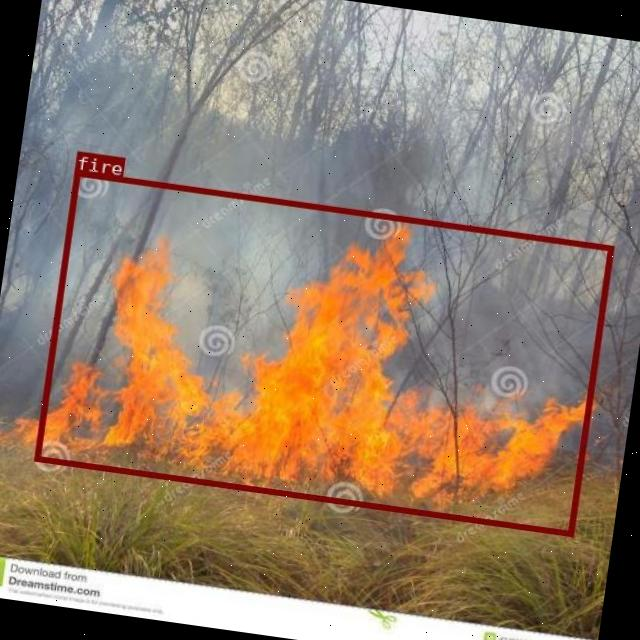fire: (35, 170, 613, 536)
